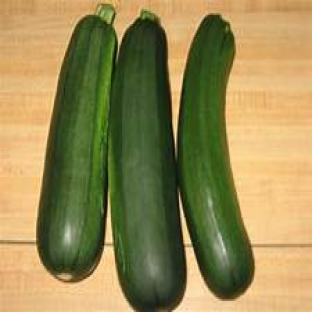Zucchini: (109, 12, 185, 310), (37, 4, 116, 280), (178, 15, 253, 299)
